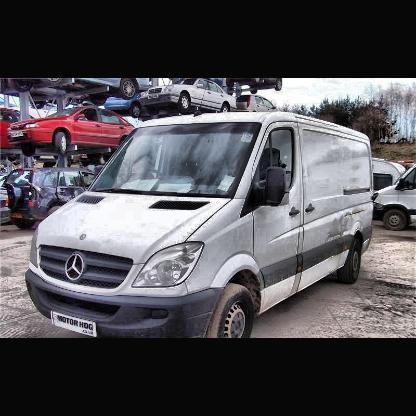Mercedes-Benz Sprinter Van 2012: (26, 82, 376, 337)
